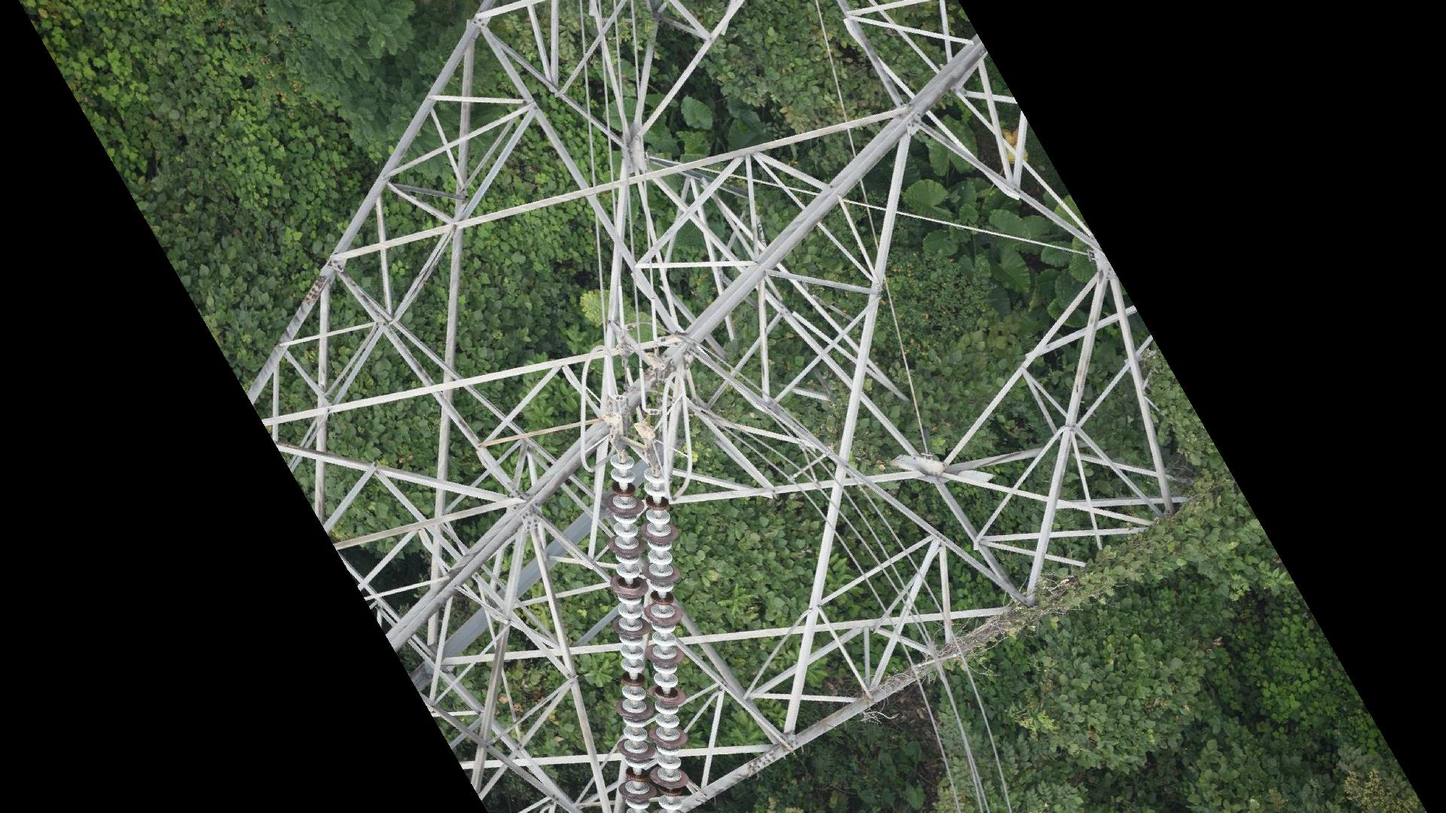insulator: (602, 446, 695, 813)
